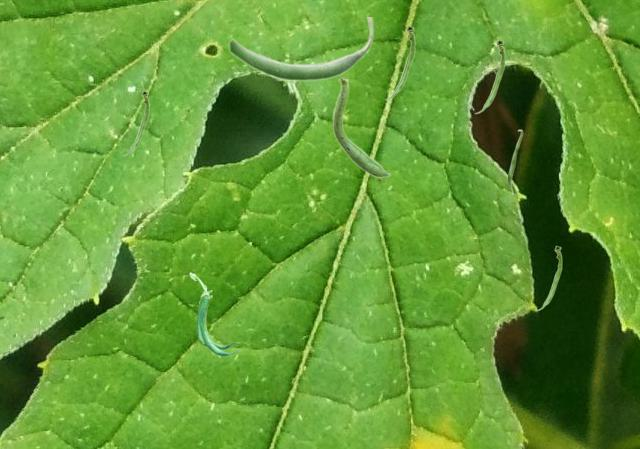french_bean: (228, 17, 373, 81), (332, 76, 390, 177), (189, 272, 239, 355), (474, 39, 504, 113), (384, 25, 414, 99), (535, 245, 561, 310), (122, 90, 148, 155), (507, 129, 522, 194)
